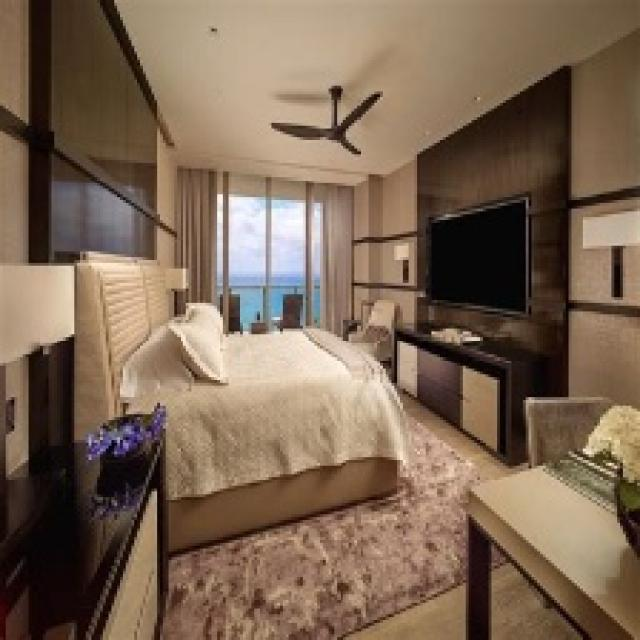Bed: (71, 252, 408, 554)
